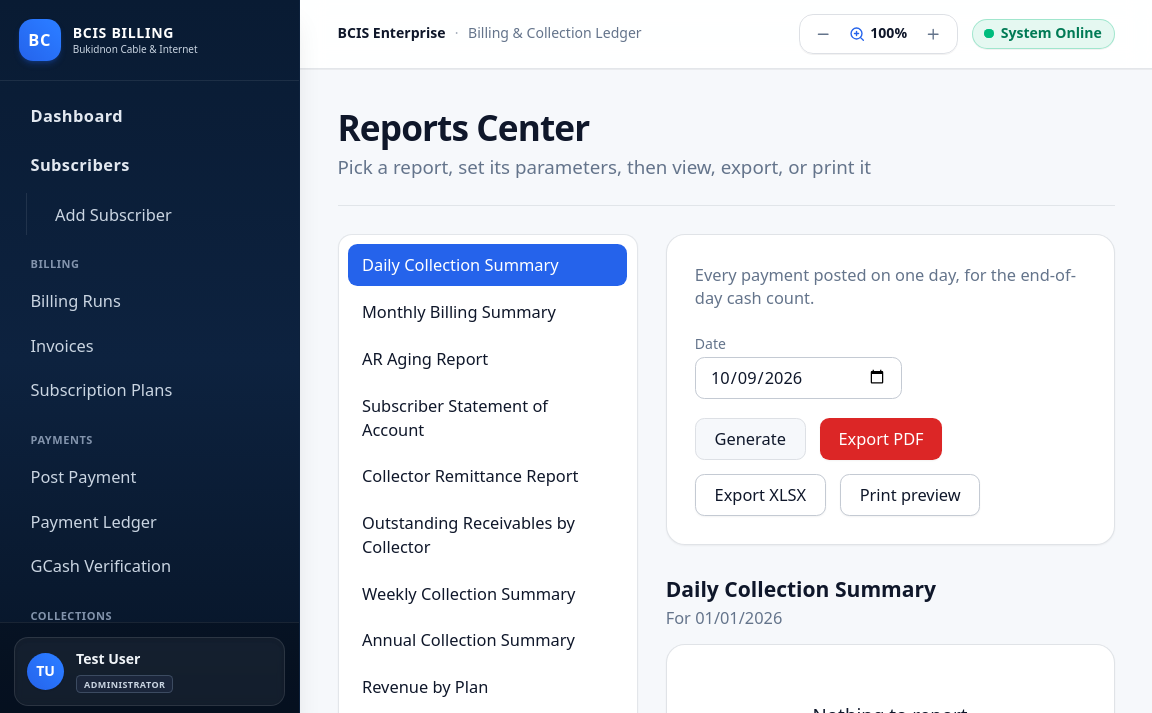
ReportsCenterPage › says so when an export was truncated by the row cap
The width and height of the screenshot is (1152, 713).
Click the button "Export XLSX": click(760, 495) x1=695 y1=474 x2=826 y2=516
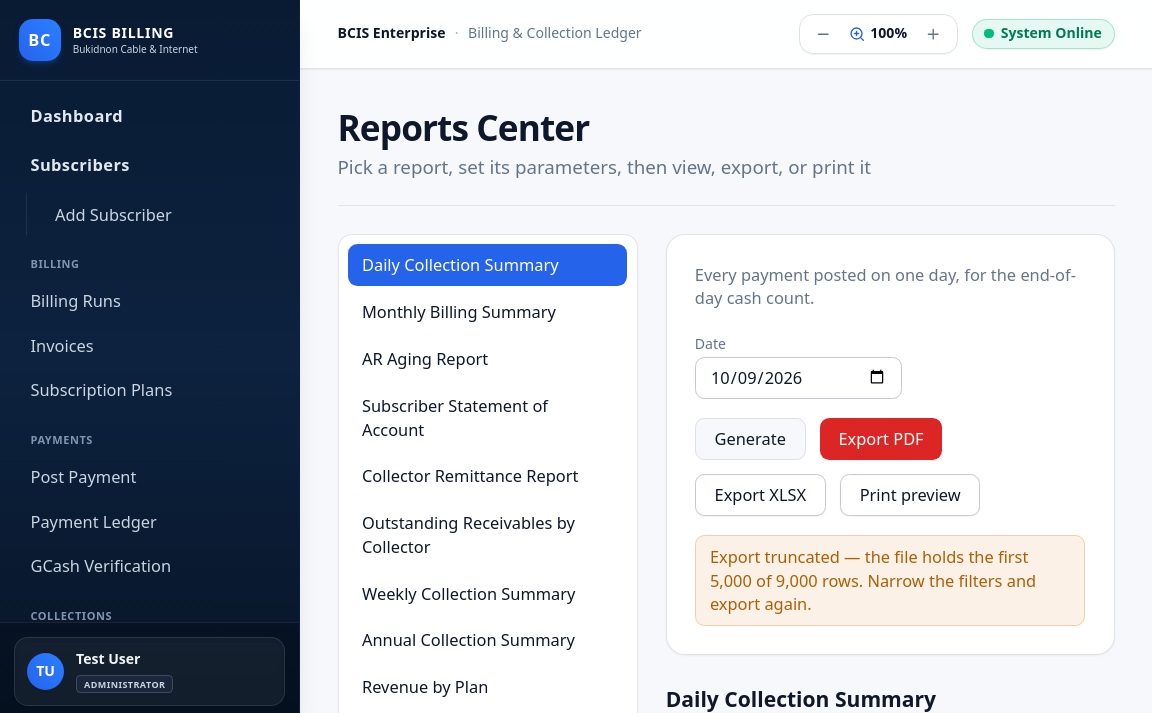
Now the message shows "Export truncated", box x1=710 y1=545 x2=1036 y2=615
Now the message shows "first 5,000 of 9,000 rows", box x1=710 y1=545 x2=1036 y2=615
